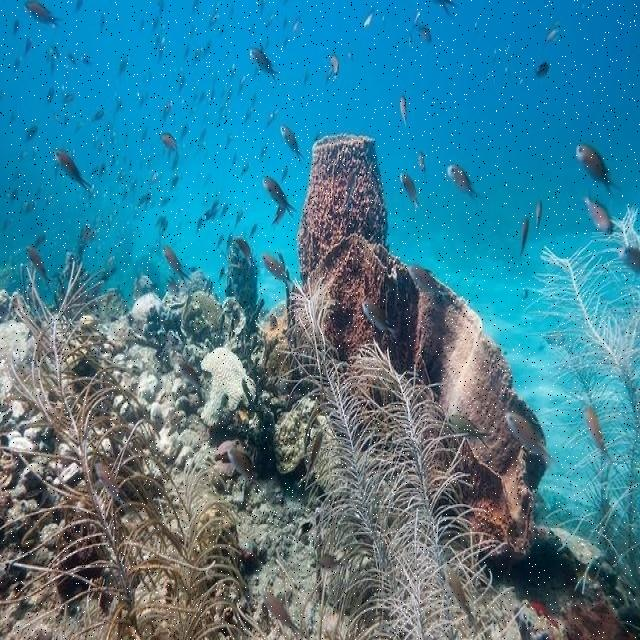aquatic plants: (2, 263, 261, 639)
fish: (201, 348, 256, 426), (575, 143, 622, 201), (262, 175, 298, 221), (580, 186, 612, 233), (362, 298, 398, 338), (447, 163, 478, 202), (163, 246, 192, 286), (250, 48, 281, 85), (261, 255, 294, 288), (280, 124, 305, 165), (399, 171, 422, 213), (399, 95, 407, 127)
reefs: (298, 134, 544, 554), (277, 275, 528, 637), (506, 408, 555, 460), (450, 415, 491, 448)
